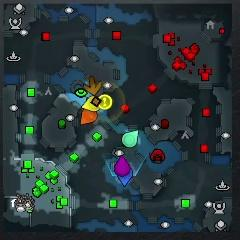Other: (99, 93, 113, 110)
p1: (118, 169, 133, 186)
p2: (123, 130, 138, 147)
p3: (115, 156, 128, 175)
p4: (81, 95, 100, 111)
p5: (80, 109, 98, 124)
x5: (82, 77, 101, 94)
